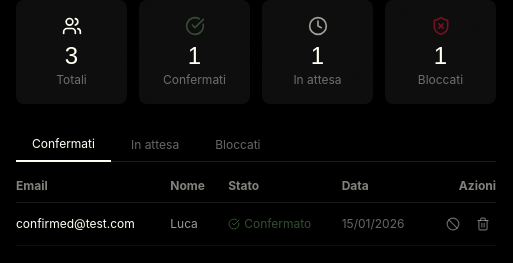
SubscriberTable › switches tab to show blocked subscribers
Click the button "Bloccati": coordinates (238, 145) top-left (199, 128), bottom-right (277, 162)
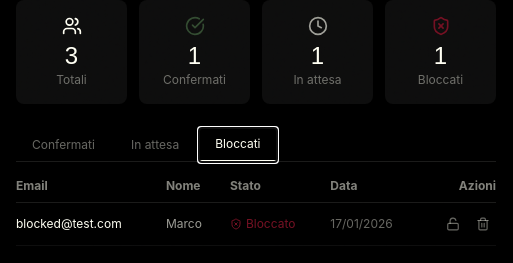
Check: the text "confirmed@test.com" is gone
